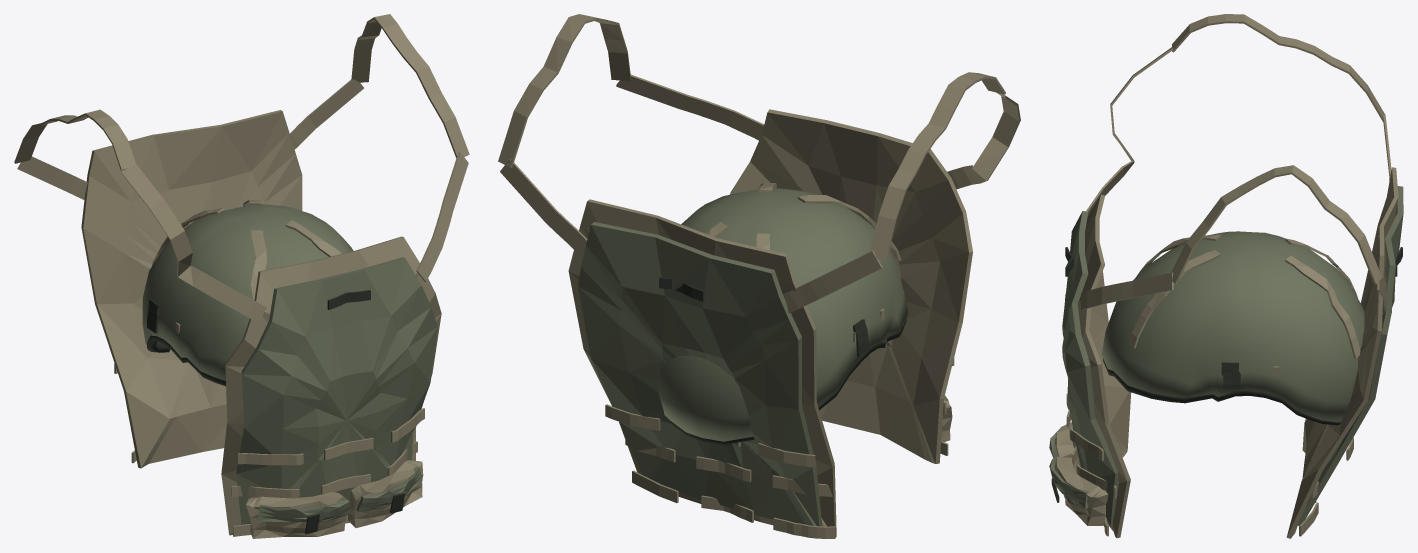
The model's file is clone-kit.glb.
3 views of the same model, side by side, from view 1: azimuth 30°, elevation 25°; view 2: azimuth 150°, elevation 25°; view 3: azimuth 270°, elevation 25° (orthographic). The views are drawn at different scales.
Visible parts, largest first — view 1: clone_vest_torso__kit-webbing-khaki, clone_vest_torso__kit-shell-olive, clone_helmet_head__kit-shell-olive, clone_helmet_head__kit-webbing-khaki, clone_vest_torso__kit-rubber-hardware, clone_helmet_head__kit-rubber-hardware; view 2: clone_vest_torso__kit-webbing-khaki, clone_vest_torso__kit-shell-olive, clone_helmet_head__kit-shell-olive, clone_helmet_head__kit-webbing-khaki, clone_helmet_head__kit-rubber-hardware; view 3: clone_helmet_head__kit-shell-olive, clone_vest_torso__kit-webbing-khaki, clone_vest_torso__kit-shell-olive, clone_helmet_head__kit-webbing-khaki, clone_helmet_head__kit-rubber-hardware.
Boxes of the visible parts, <box> form: clone_vest_torso__kit-webbing-khaki: <box>14,14,469,538</box>; clone_vest_torso__kit-shell-olive: <box>236,257,437,524</box>; clone_helmet_head__kit-shell-olive: <box>142,204,353,380</box>; clone_helmet_head__kit-webbing-khaki: <box>148,199,341,333</box>; clone_vest_torso__kit-rubber-hardware: <box>305,290,404,534</box>; clone_helmet_head__kit-rubber-hardware: <box>147,299,225,386</box>; clone_vest_torso__kit-webbing-khaki: <box>498,14,1020,538</box>; clone_vest_torso__kit-shell-olive: <box>578,222,948,526</box>; clone_helmet_head__kit-shell-olive: <box>659,188,908,441</box>; clone_helmet_head__kit-webbing-khaki: <box>706,183,901,342</box>; clone_helmet_head__kit-rubber-hardware: <box>665,319,906,444</box>; clone_helmet_head__kit-shell-olive: <box>1101,231,1364,422</box>; clone_vest_torso__kit-webbing-khaki: <box>1055,14,1398,538</box>; clone_vest_torso__kit-shell-olive: <box>1049,186,1403,526</box>; clone_helmet_head__kit-webbing-khaki: <box>1128,234,1360,375</box>; clone_helmet_head__kit-rubber-hardware: <box>1103,358,1340,425</box>.
Bounding box in the file's own units: 2.3 × 2.52 × 2.03.
